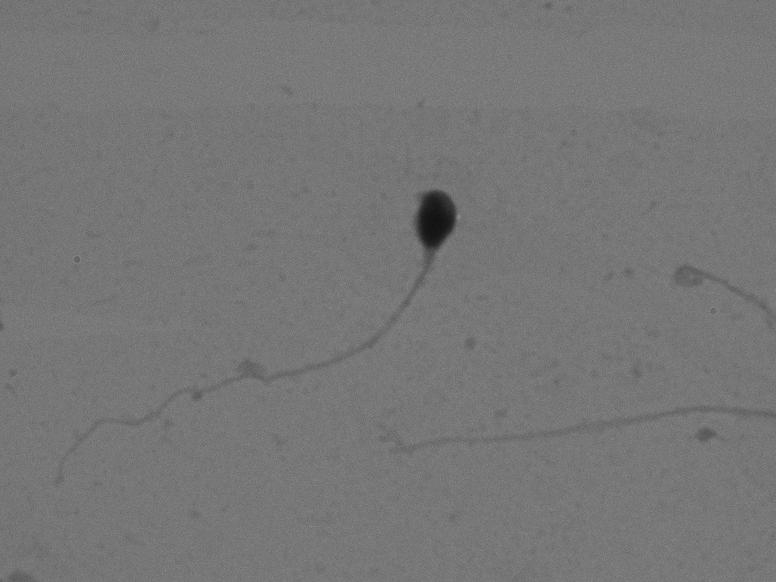Abnormal: (47, 172, 480, 486)
